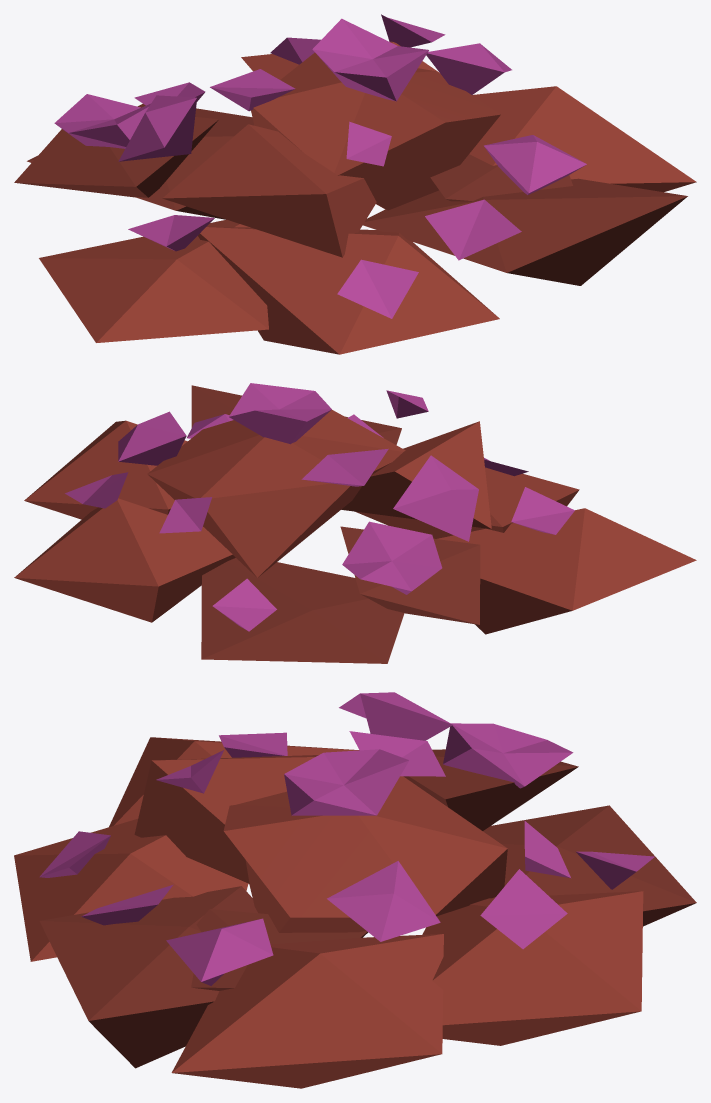
The model's file is SM_Env_Flowers_04.obj.
3 renders of one model, top to bottom at view 1: azimuth 30°, elevation 25°; view 2: azimuth 150°, elevation 25°; view 3: azimuth 270°, elevation 25°, orthographic. The views are drawn at different scales.
Visible parts, largest first — view 1: SM_Env_Flowers_04_0; view 2: SM_Env_Flowers_04_0; view 3: SM_Env_Flowers_04_0.
Part boxes in pixels (box(x1,y1,x2,y2)): SM_Env_Flowers_04_0: box(14, 14, 696, 354); SM_Env_Flowers_04_0: box(14, 383, 696, 663); SM_Env_Flowers_04_0: box(14, 692, 696, 1088).
Bounding box in the file's own units: 1.34 × 0.4684 × 1.13.
1 material, 1 textured.
